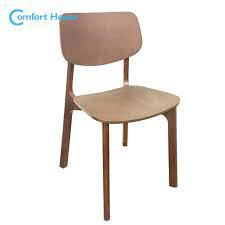chair: (41, 2, 190, 210)
